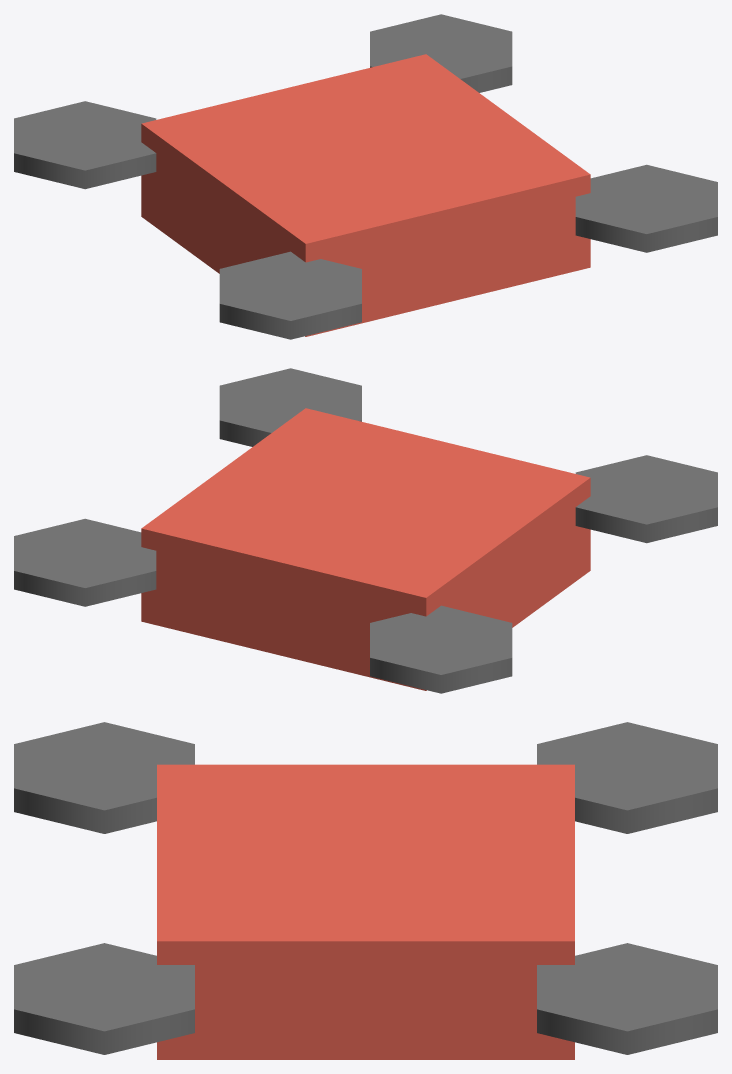
File: drone_full.gltf
The picture shows the model from 3 angles, top to bottom: view 1: azimuth 30°, elevation 25°; view 2: azimuth 150°, elevation 25°; view 3: azimuth 270°, elevation 25°; orthographic projection. The views are drawn at different scales.
Parts seen in each view (by area): view 1: drone_body, drone_rotor_1, drone_rotor_0, drone_rotor_3, drone_rotor_2; view 2: drone_body, drone_rotor_3, drone_rotor_2, drone_rotor_1, drone_rotor_0; view 3: drone_body, drone_rotor_0, drone_rotor_2, drone_rotor_1, drone_rotor_3.
Boxes of the visible parts, x1,y1,x2,y2 form: drone_body: [141, 54, 590, 336]; drone_rotor_1: [219, 251, 361, 339]; drone_rotor_0: [575, 164, 717, 252]; drone_rotor_3: [14, 101, 156, 189]; drone_rotor_2: [370, 14, 512, 92]; drone_body: [141, 408, 590, 690]; drone_rotor_3: [370, 605, 512, 693]; drone_rotor_2: [14, 518, 156, 606]; drone_rotor_1: [575, 455, 717, 543]; drone_rotor_0: [219, 368, 361, 446]; drone_body: [157, 764, 574, 1059]; drone_rotor_0: [14, 943, 194, 1054]; drone_rotor_2: [537, 943, 717, 1054]; drone_rotor_1: [14, 722, 194, 833]; drone_rotor_3: [537, 722, 717, 833].
Bounding box in the file's own units: 1.4 × 0.25 × 1.35.
